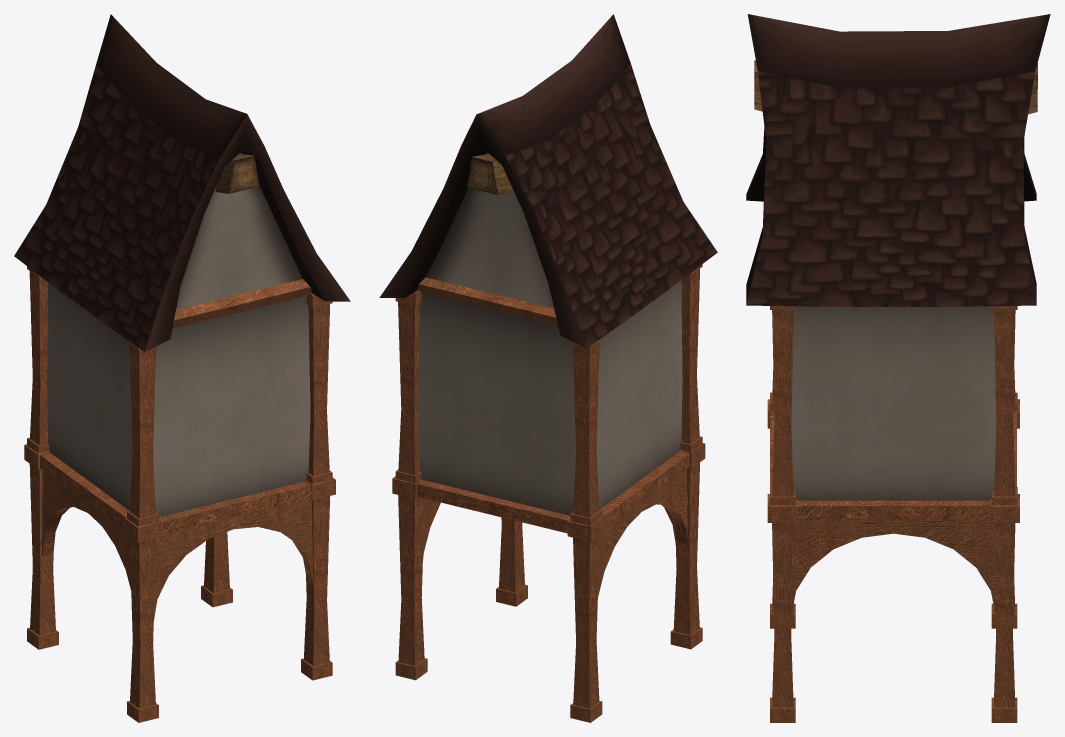
File: fanasty_mod_conjoining_piece_C.fbx
3 renders of one model, left to right at view 1: azimuth 30°, elevation 25°; view 2: azimuth 150°, elevation 25°; view 3: azimuth 270°, elevation 25°, orthographic. The views are drawn at different scales.
Parts seen in each view (by area): view 1: conjoining_piece_C; view 2: conjoining_piece_C; view 3: conjoining_piece_C.
Part boxes in pixels (box(x1,y1,x2,y2)): conjoining_piece_C: box(14, 14, 350, 722); conjoining_piece_C: box(379, 14, 717, 722); conjoining_piece_C: box(746, 14, 1050, 722).
Size of the model in its own units: 3.85 by 10.56 by 4.43.
